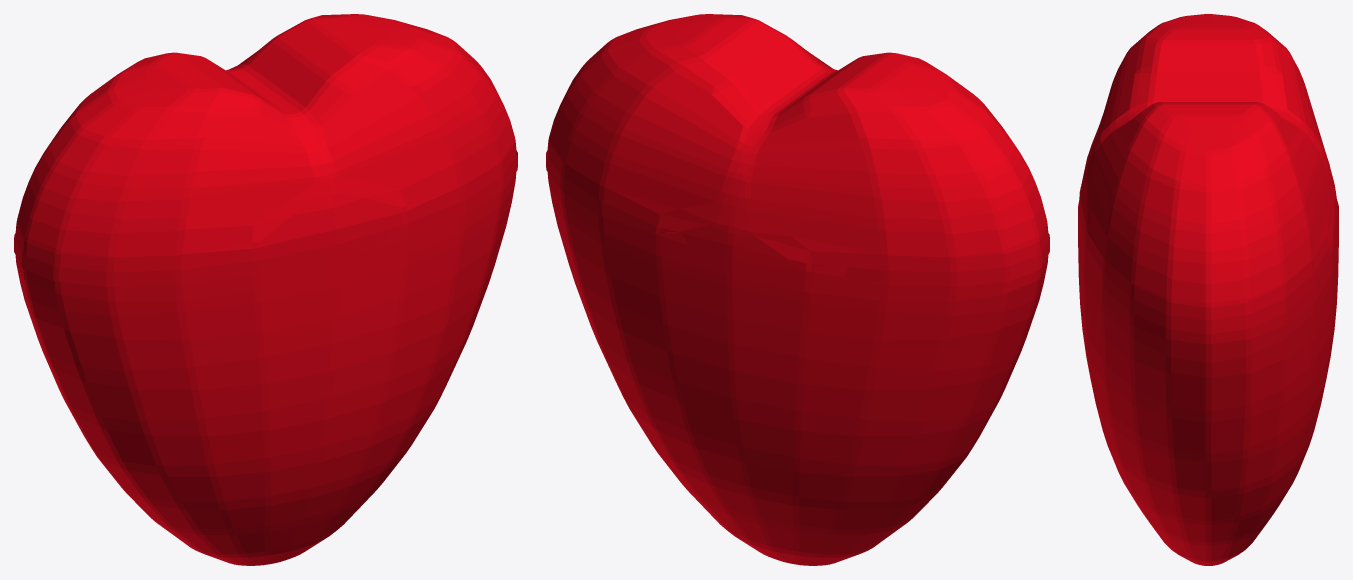
The model's file is Heart.fbx.
The picture shows the model from 3 angles, left to right: view 1: azimuth 30°, elevation 25°; view 2: azimuth 150°, elevation 25°; view 3: azimuth 270°, elevation 25°; orthographic projection. The views are drawn at different scales.
Parts seen in each view (by area): view 1: 球体; view 2: 球体; view 3: 球体.
Boxes of the visible parts, <box> form: 球体: <box>14,14,517,565</box>; 球体: <box>546,14,1049,565</box>; 球体: <box>1078,14,1338,565</box>.
Bounding box in the file's own units: 201 × 199 × 97.89.
